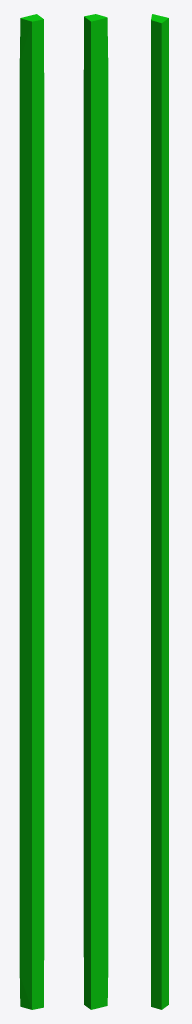
3 renders of one model, left to right at view 1: azimuth 30°, elevation 25°; view 2: azimuth 210°, elevation 25°; view 3: azimuth 330°, elevation 25°, orthographic.
Size of the model in its own units: 0.7792 by 42.85 by 0.5779.
